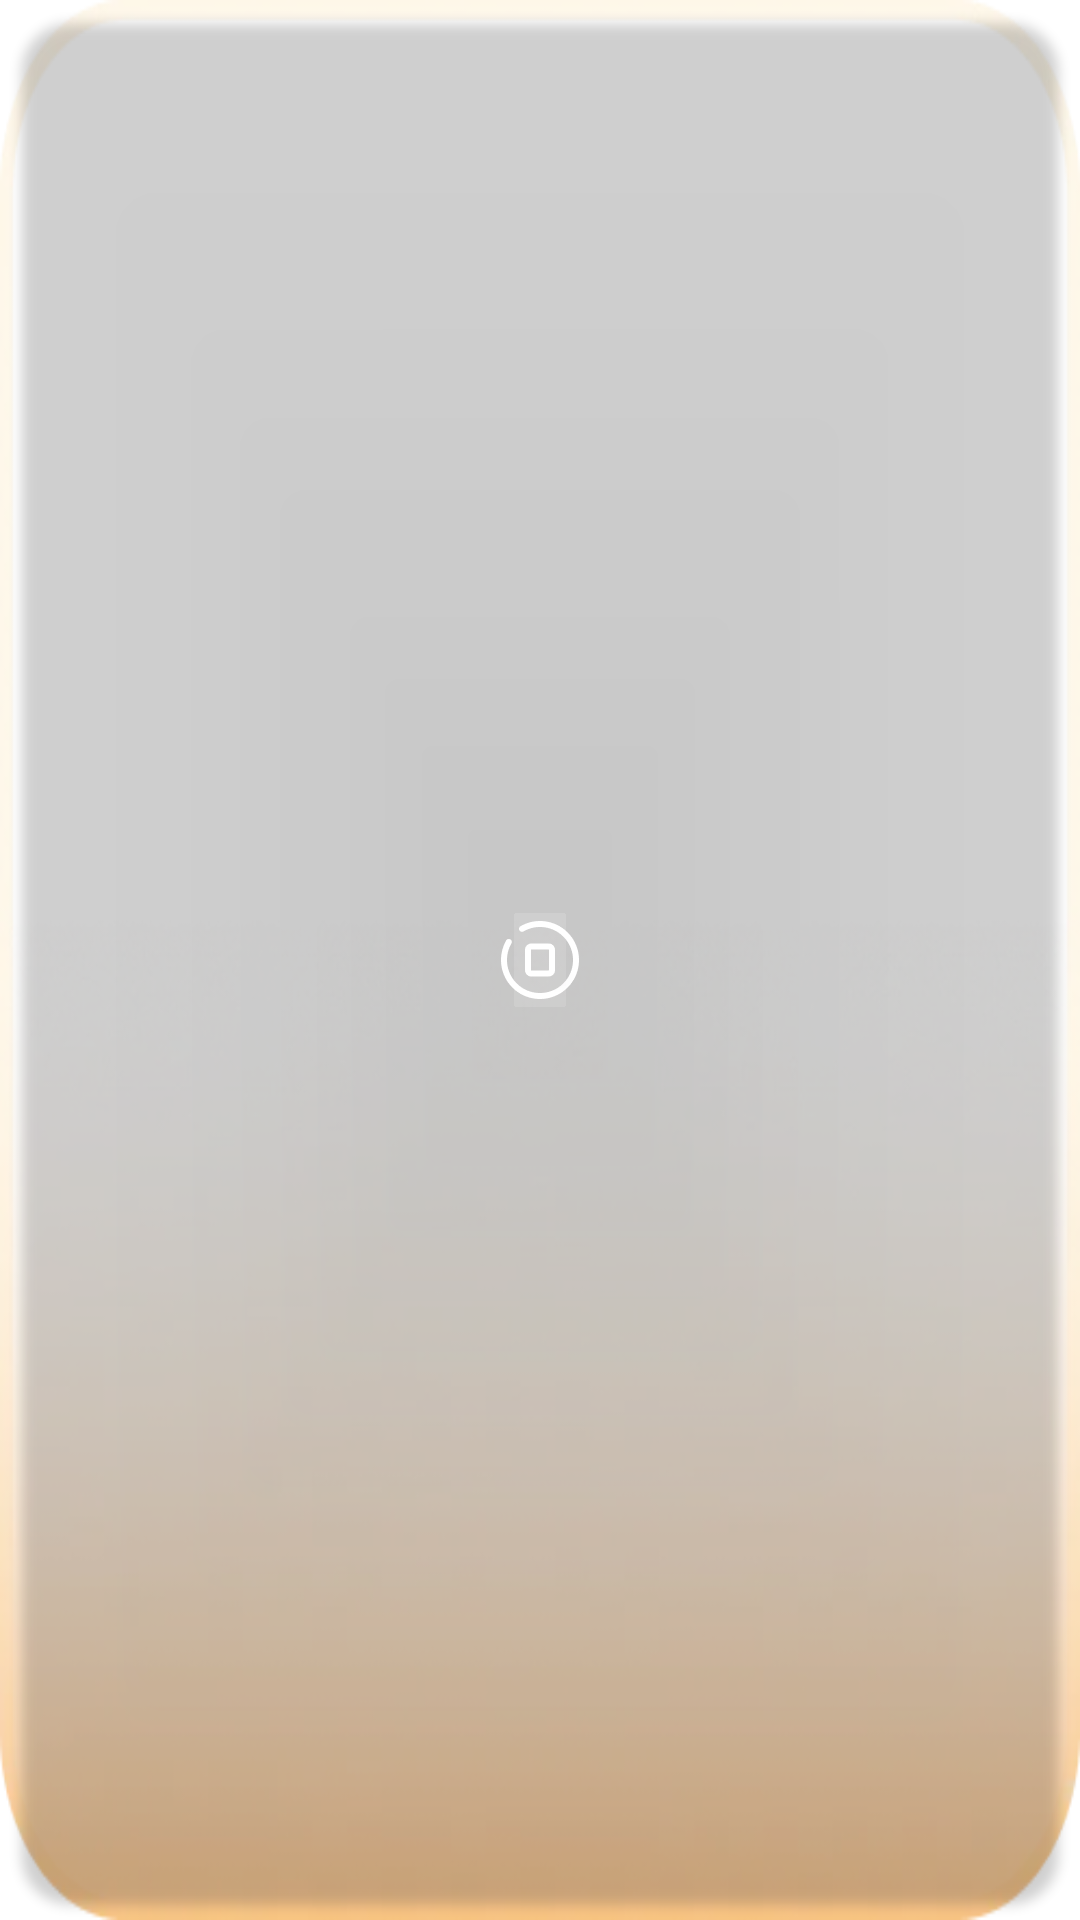

Named icons in this screenshot (1080px x 1920px) and their centers, point (x, y):
item downloading page stop: point (540, 960)
